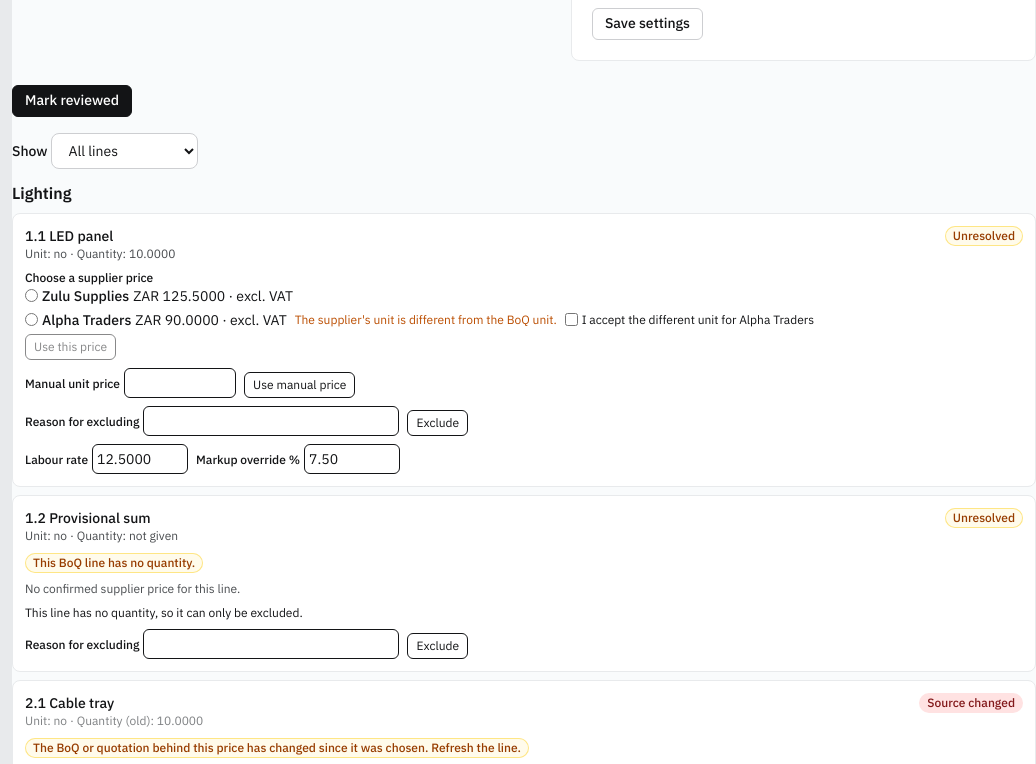
it: line controls › sends nothing for the invalid manual price
(page scrolled)
Check: the text "1.1 LED panel" is shown, box x1=25 y1=226 x2=113 y2=246
Click the button "Use manual price".
click(300, 384)  # box x1=244 y1=372 x2=355 y2=398
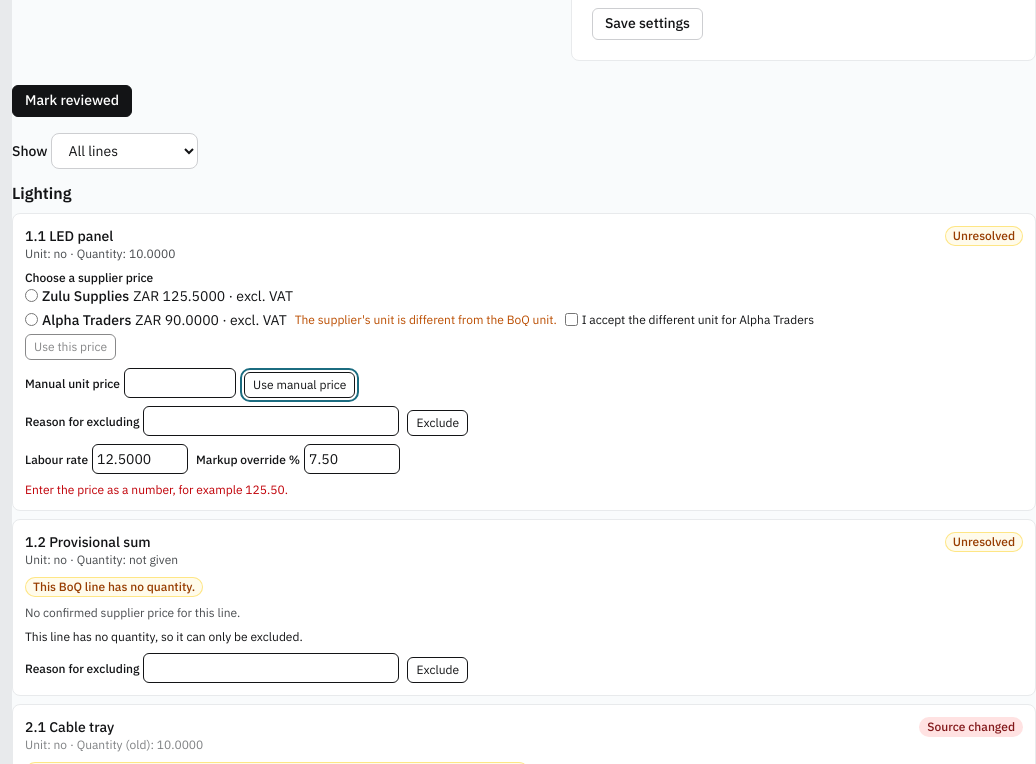
Check: the message "Enter the price as a number, for example 125.50." is shown, box x1=25 y1=482 x2=288 y2=496
